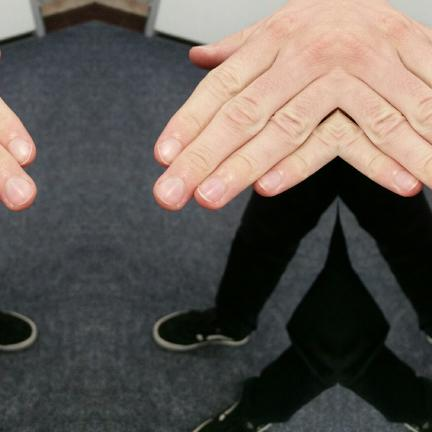Nail: (156, 176, 184, 206), (4, 176, 32, 206), (196, 177, 224, 204), (157, 137, 182, 165), (6, 137, 31, 165), (257, 171, 280, 191), (394, 171, 417, 191), (192, 42, 217, 51)
